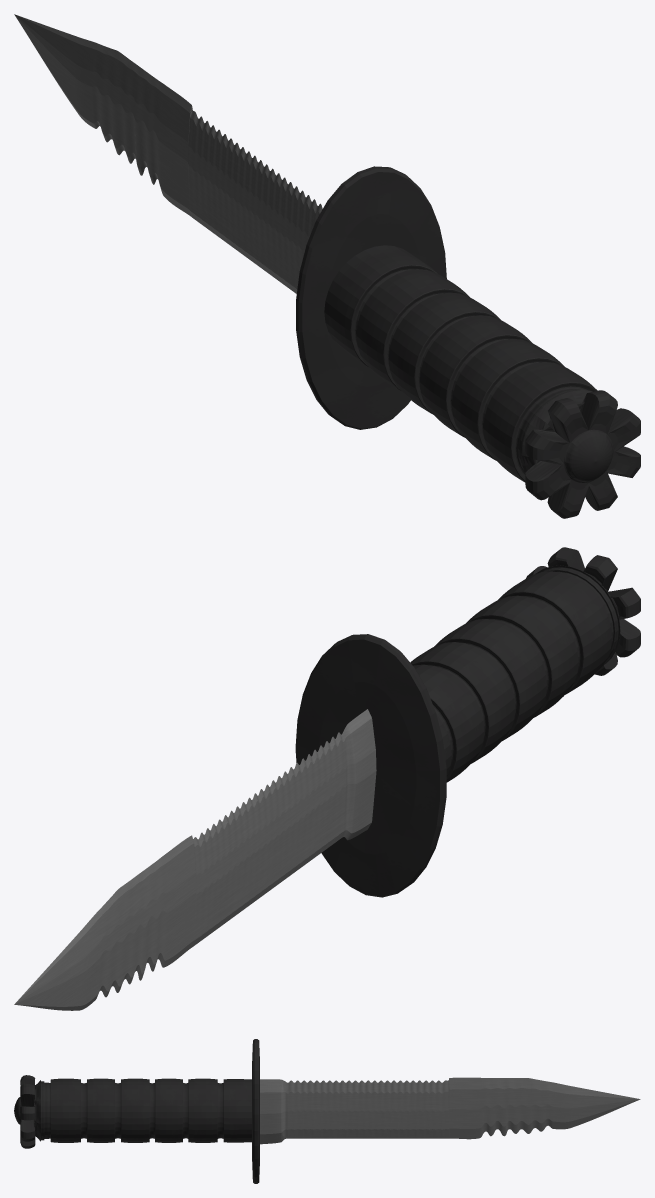
File: knife-view.glb
The picture shows the model from 3 angles, top to bottom: view 1: azimuth 30°, elevation 25°; view 2: azimuth 150°, elevation 25°; view 3: azimuth 270°, elevation 25°; orthographic projection. The views are drawn at different scales.
Parts seen in each view (by area): view 1: Knife; view 2: Knife; view 3: Knife.
Part boxes in pixels (<box>): Knife: <box>14,14,640,518</box>; Knife: <box>14,547,640,1010</box>; Knife: <box>14,1039,640,1183</box>.
Size of the model in its own units: 0.0515 by 0.086 by 0.35.
Materials: 1 (1 with a texture image).
